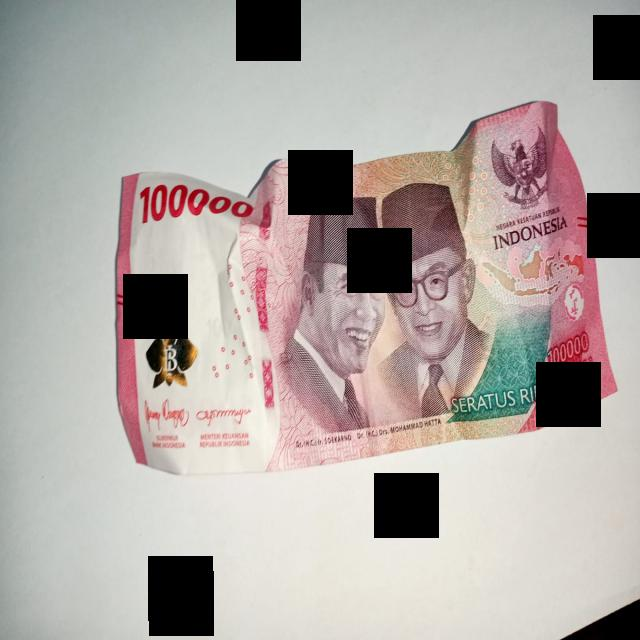seratusribu rupiah: (116, 102, 616, 473)
